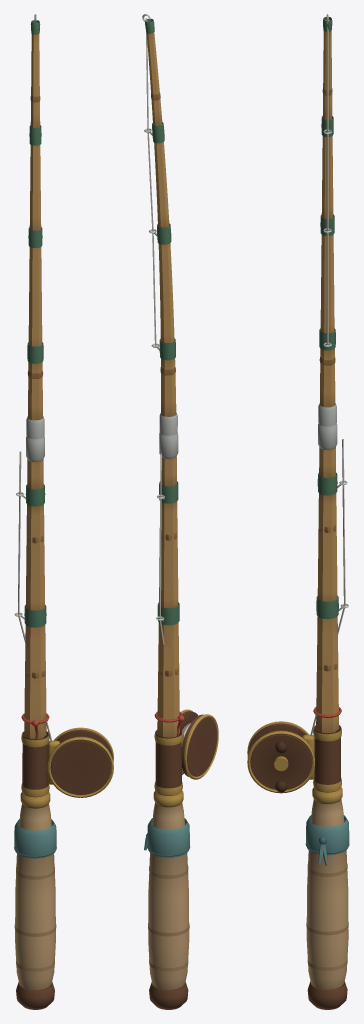
File: fishing_rod.glb
3 views of the same model, side by side, from view 1: azimuth 90°, elevation 25°; view 2: azimuth 150°, elevation 25°; view 3: azimuth 270°, elevation 25° (orthographic). The views are drawn at different scales.
Parts seen in each view (by area): view 1: fishing_rod, fishing_rod_tip; view 2: fishing_rod, fishing_rod_tip; view 3: fishing_rod, fishing_rod_tip.
Boxes of the visible parts, x1,y1,x2,y2 form: fishing_rod: (14,436,113,1009); fishing_rod_tip: (26,14,44,439); fishing_rod: (144,433,218,1009); fishing_rod_tip: (142,14,177,435); fishing_rod: (247,423,349,1009); fishing_rod_tip: (318,14,336,426).
Size of the model in its own units: 0.0672 by 1.39 by 0.1279.
